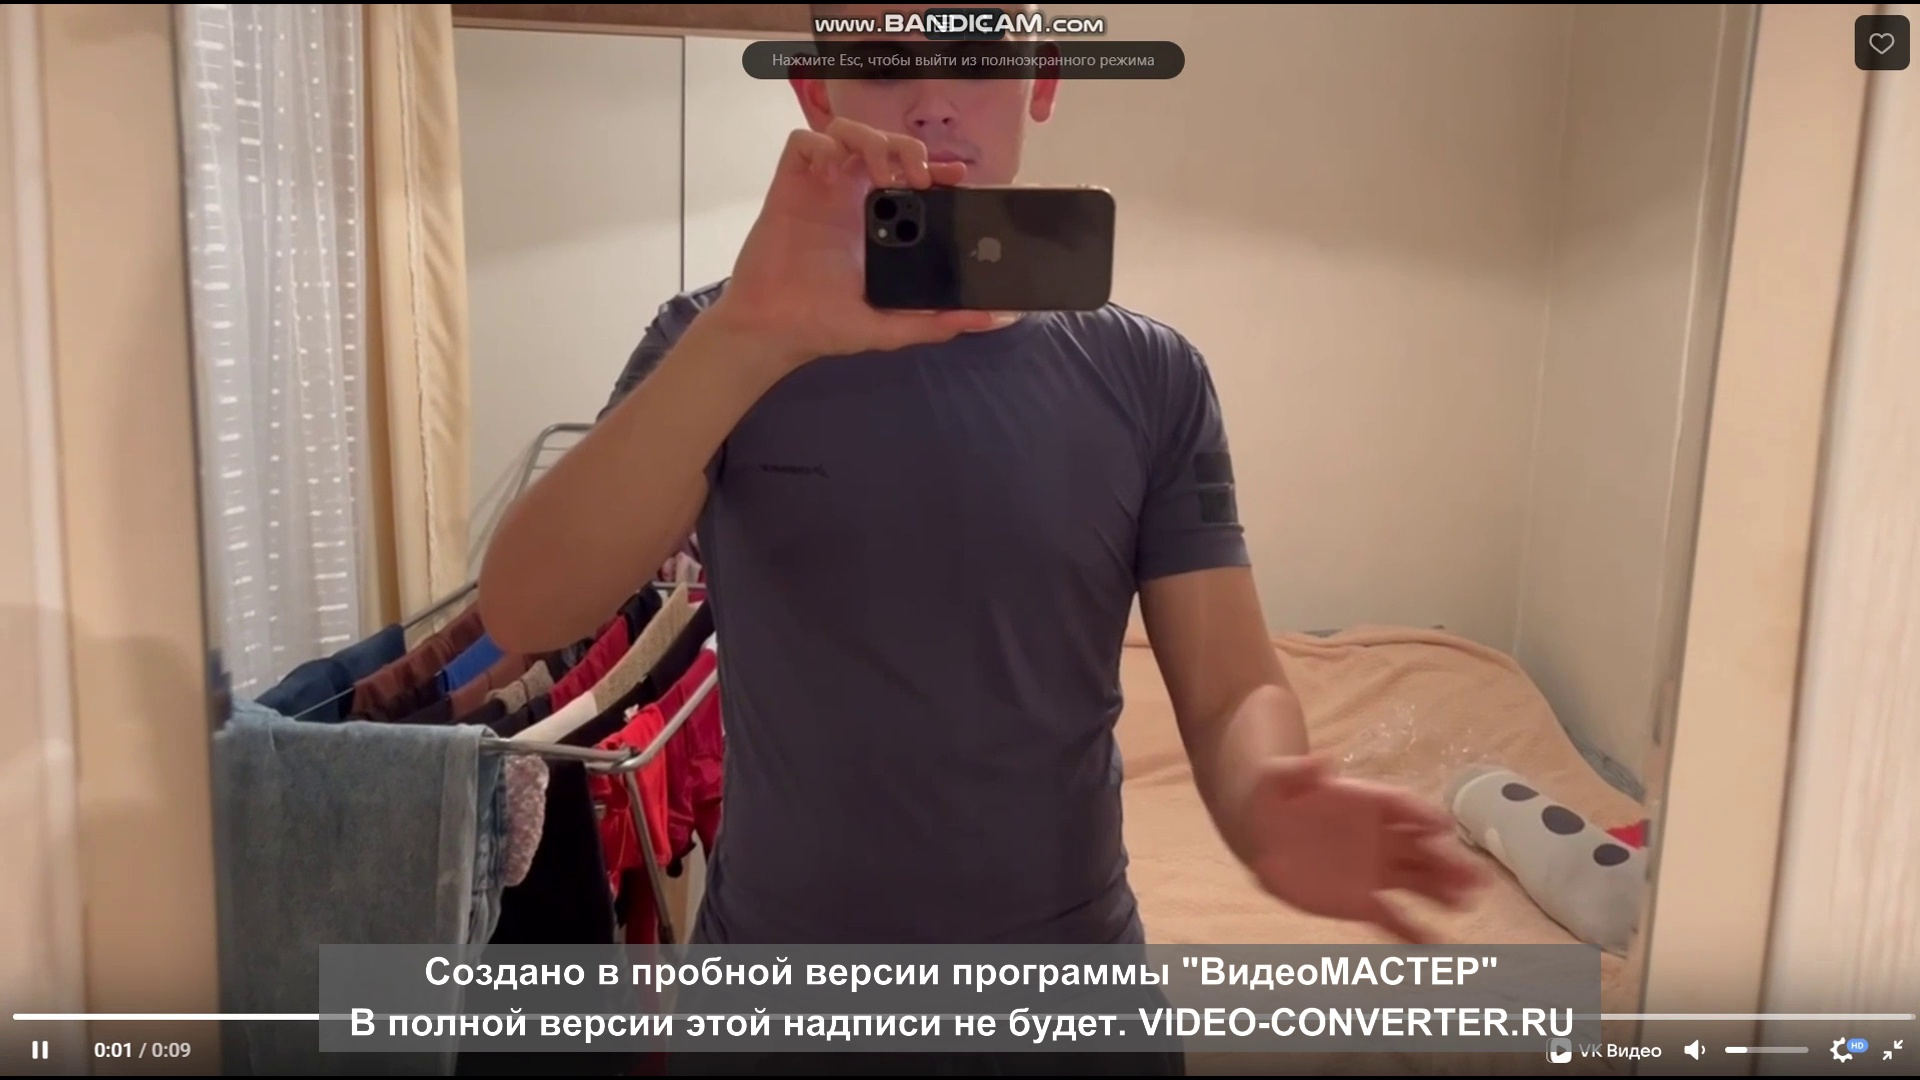Ладонь: (1240, 750, 1495, 939)
